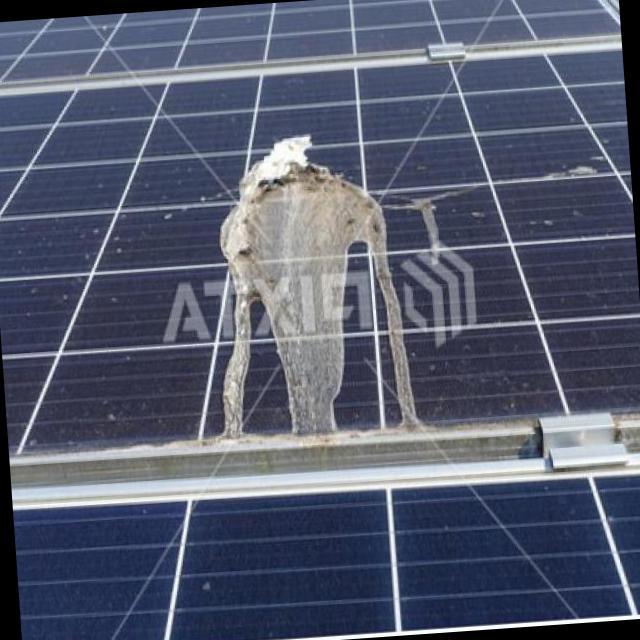faulty: (178, 101, 458, 444), (442, 122, 610, 295)
